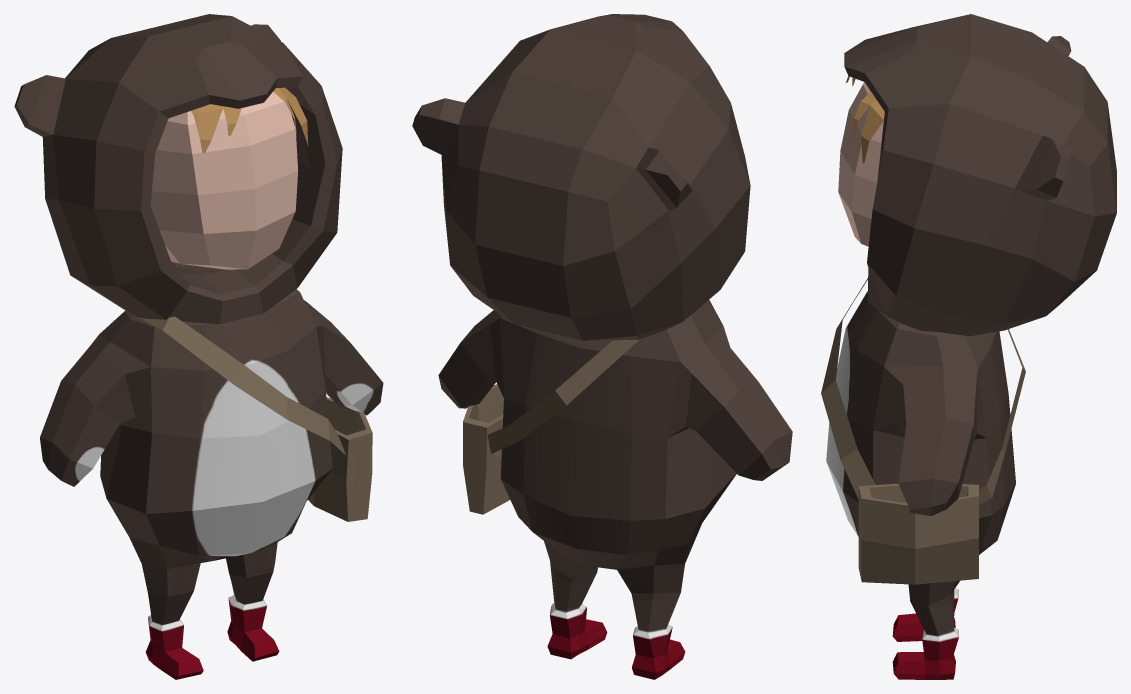
Rendered from boy.fbx.
3 views of the same model, side by side, from view 1: azimuth 30°, elevation 25°; view 2: azimuth 150°, elevation 25°; view 3: azimuth 270°, elevation 25° (orthographic). The views are drawn at different scales.
Visible parts, largest first — view 1: Boy1; view 2: Boy1; view 3: Boy1.
Boxes of the visible parts, x1=… form: Boy1: x1=14, y1=14, x2=383, y2=679; Boy1: x1=412, y1=14, x2=792, y2=679; Boy1: x1=821, y1=14, x2=1116, y2=679.
Size of the model in its own units: 3.98 by 7.23 by 3.12.
Materials: 1 (1 with a texture image).
